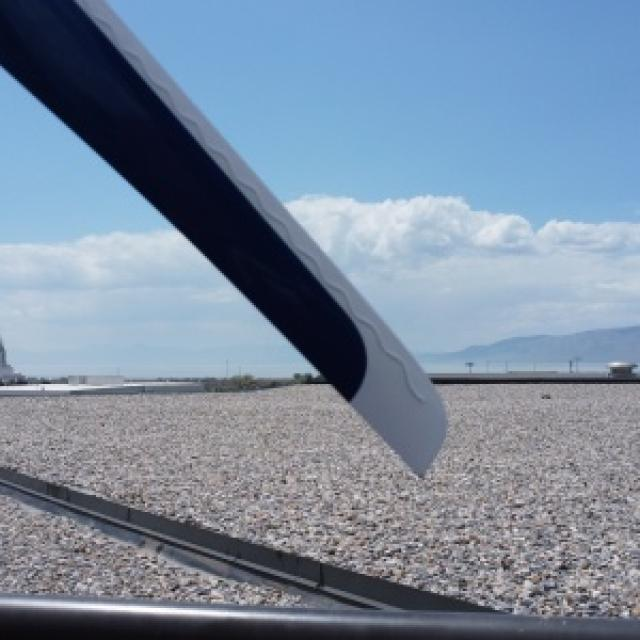healthy: (0, 0, 446, 474)
